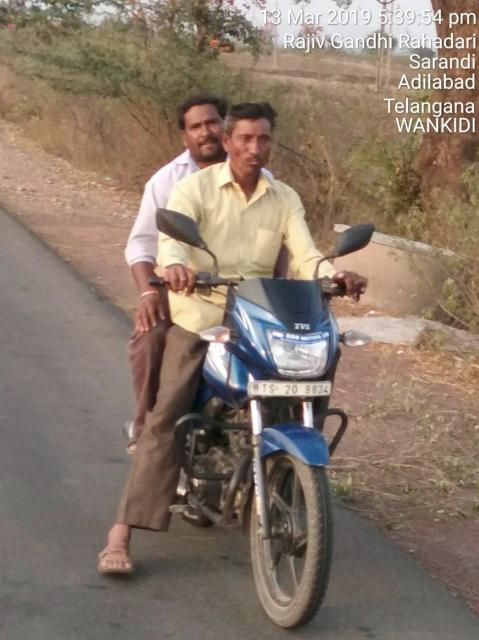motor: (119, 205, 379, 633)
non-helm: (224, 102, 279, 183), (174, 94, 230, 165)
